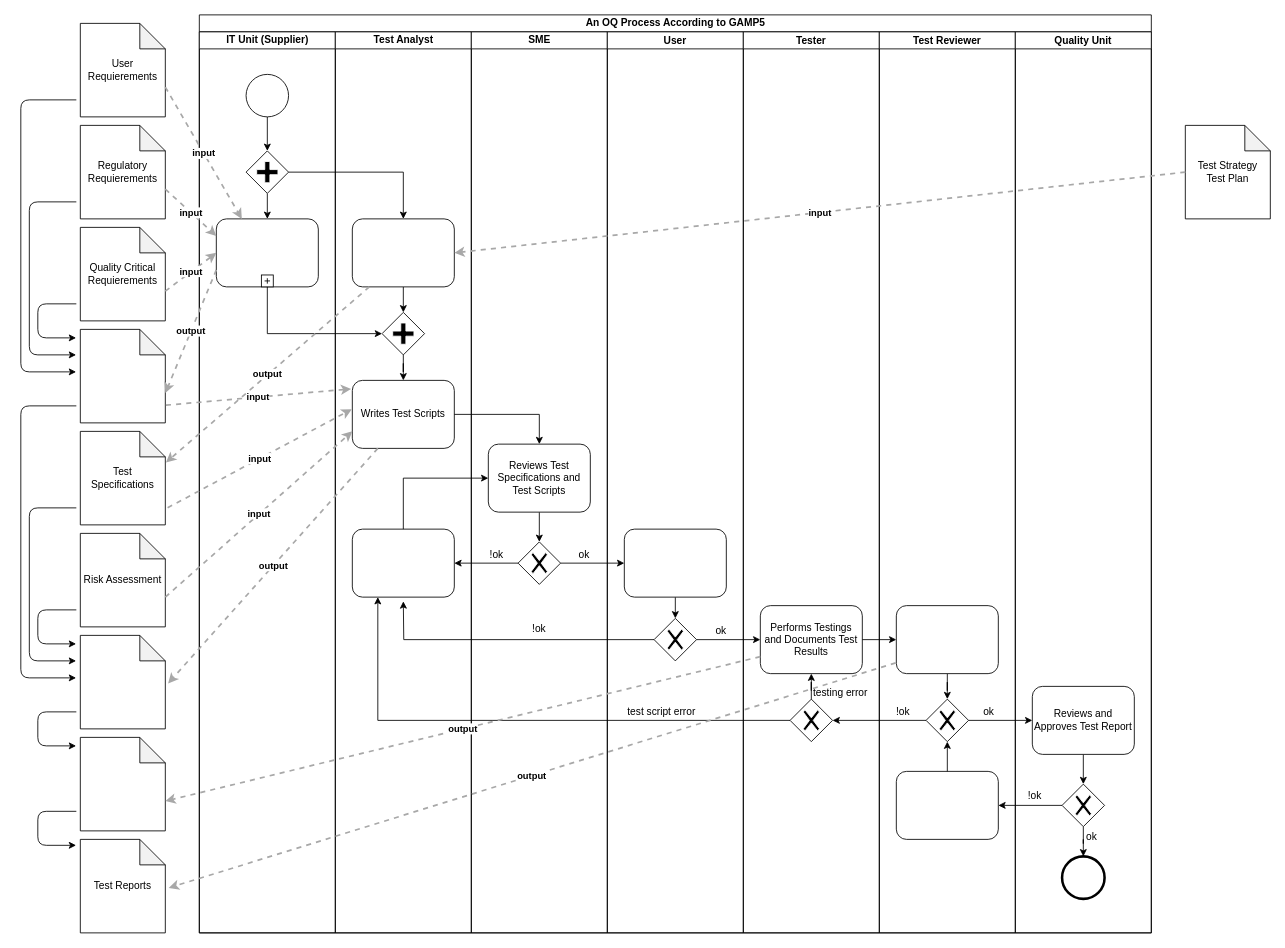
This 1285x948 diagram has some shape labels left out. The centre of each missing label's shape, as x and y in pixels:
"Approves Test Specifications and Test Scripts" belongs at (674,562).
"Corrects Review or Improves Test Report" belongs at (946,805).
"Develops Functional Specifications" belongs at (266,252).
"Functional Specifications" belongs at (122,376).
"Improves Documents" belongs at (402,562).
"Reviews Test Results and writes Test Report" belongs at (946,639).
"Test Results" belongs at (122,784).
"Test Scripts" belongs at (122,682).
"Writes Test Specifications" belongs at (402,252).
